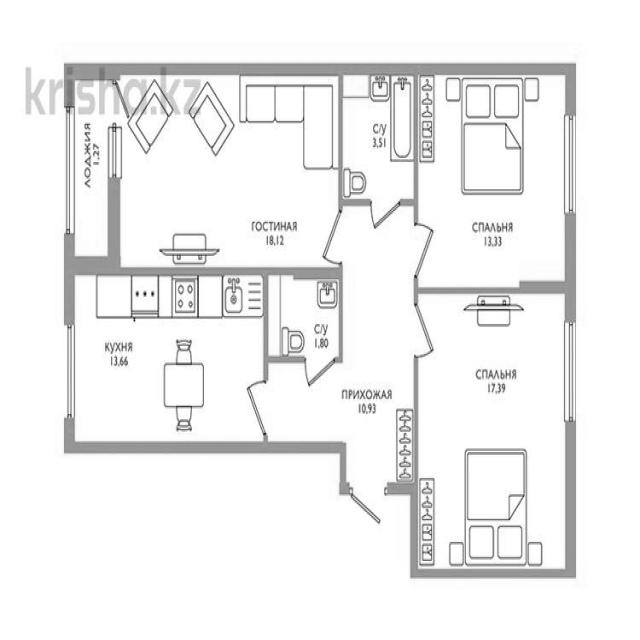balcony: (69, 70, 114, 262)
bathroom: (342, 75, 415, 202), (266, 274, 341, 360)
hallway: (344, 223, 411, 480)
kitchen: (68, 273, 269, 447)
living_room: (118, 72, 340, 271), (415, 295, 570, 573), (418, 70, 570, 288)
